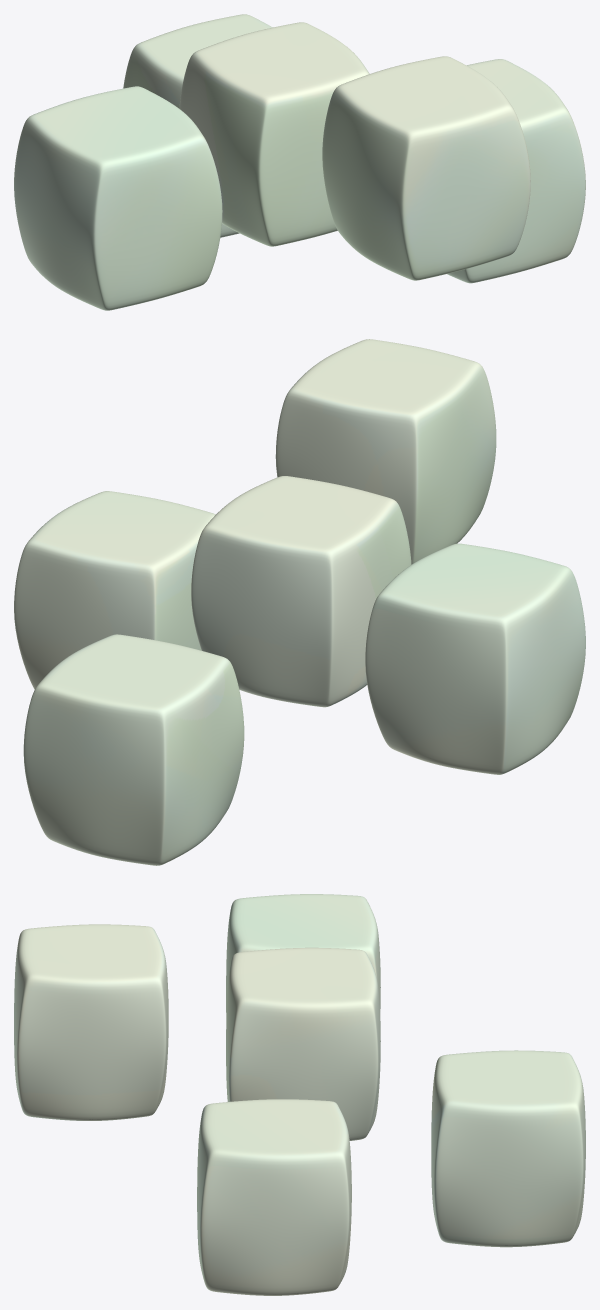
Rendered from SM_OnionCut.fbx.
3 views of the same model, one above another, from view 1: azimuth 30°, elevation 25°; view 2: azimuth 150°, elevation 25°; view 3: azimuth 270°, elevation 25° (orthographic). The views are drawn at different scales.
Parts seen in each view (by area): view 1: SM_OnionCut; view 2: SM_OnionCut; view 3: SM_OnionCut.
Boxes of the visible parts, bbox=[...] form: SM_OnionCut: bbox=[14, 14, 585, 310]; SM_OnionCut: bbox=[14, 339, 585, 865]; SM_OnionCut: bbox=[14, 894, 585, 1295].
Bounding box in the file's own units: 26.19 × 14.01 × 28.01.
